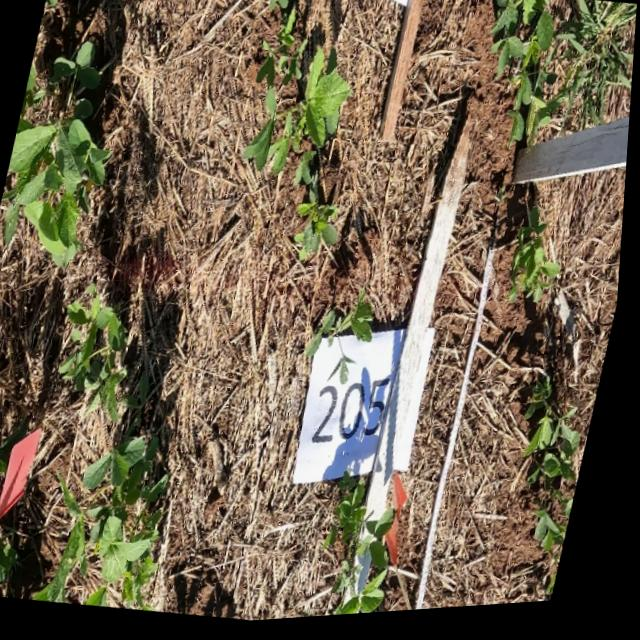grassy_weed: (548, 4, 638, 137)
soy_plant: (246, 0, 352, 263), (5, 43, 111, 267), (42, 440, 174, 613), (492, 0, 562, 154), (531, 386, 587, 573), (330, 480, 403, 621), (65, 291, 132, 421), (513, 215, 564, 311), (311, 295, 379, 360)
